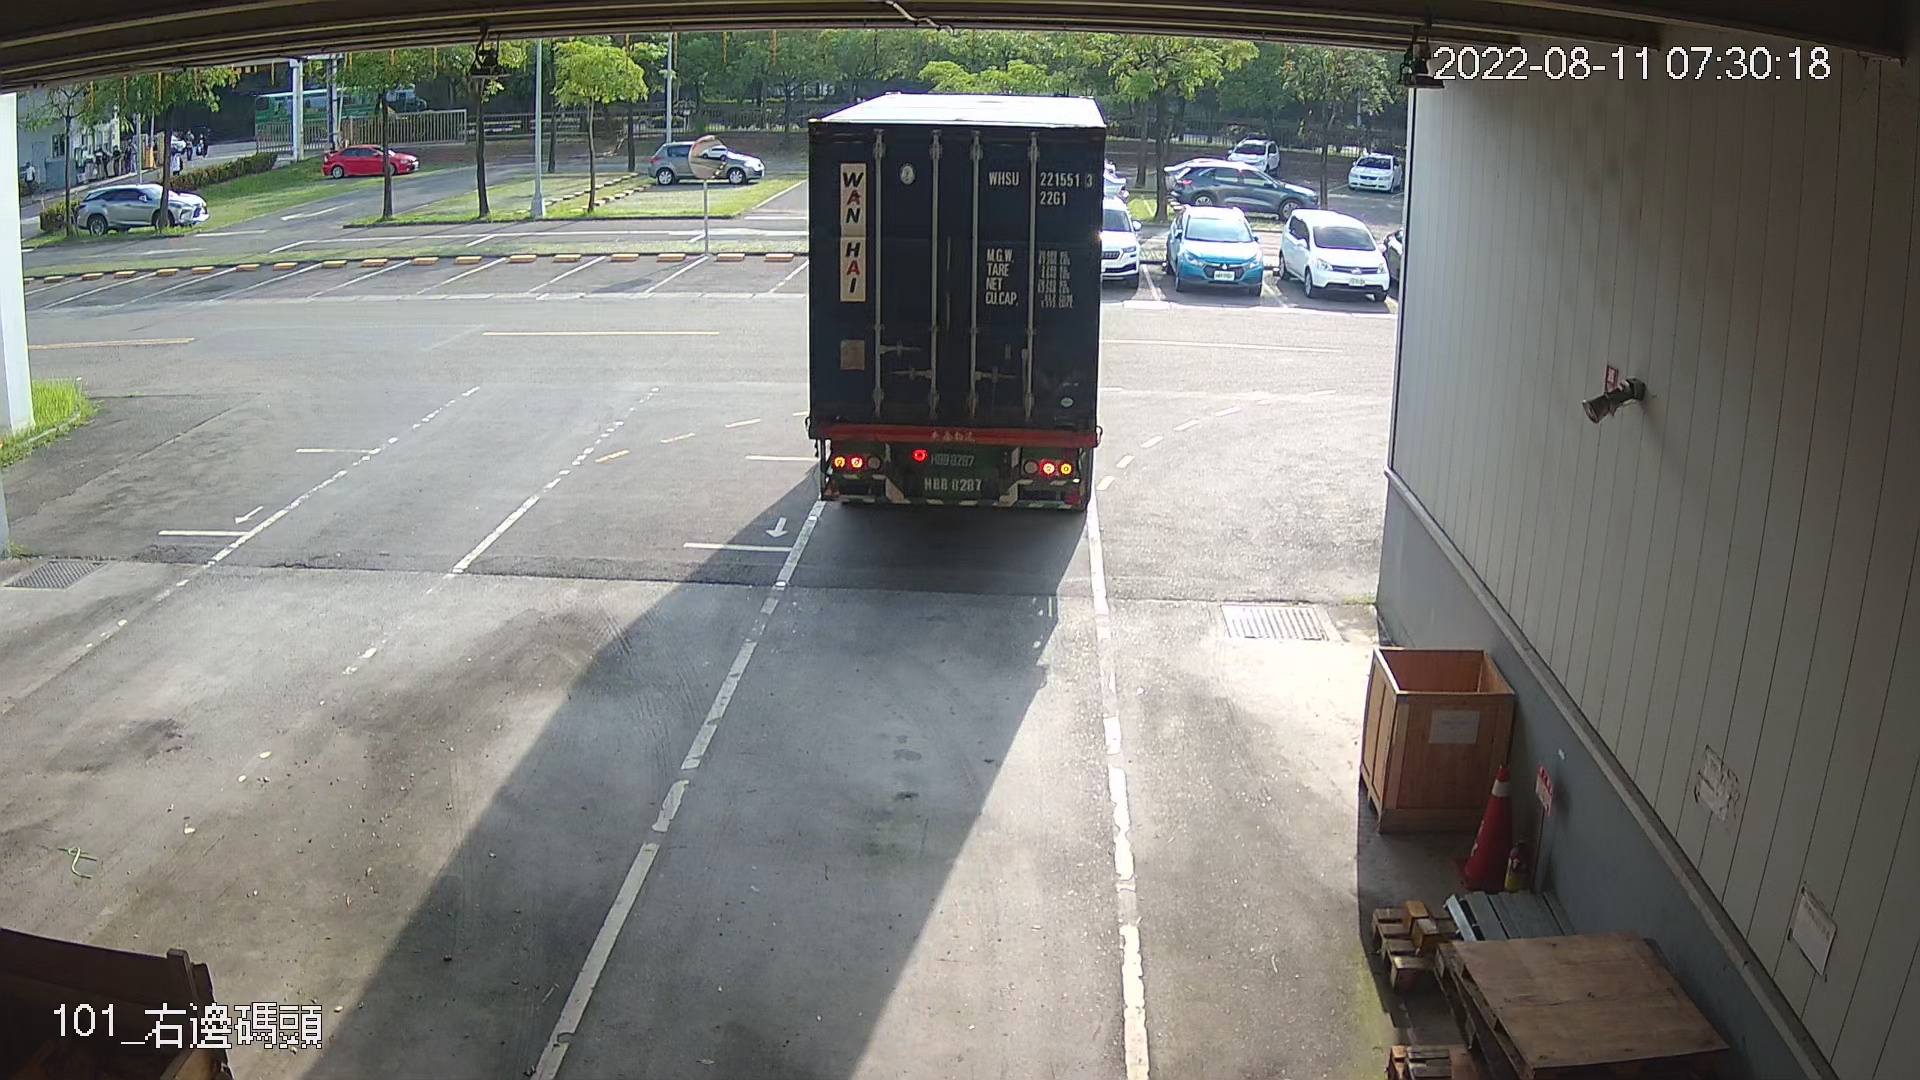container: (982, 164, 1098, 214)
